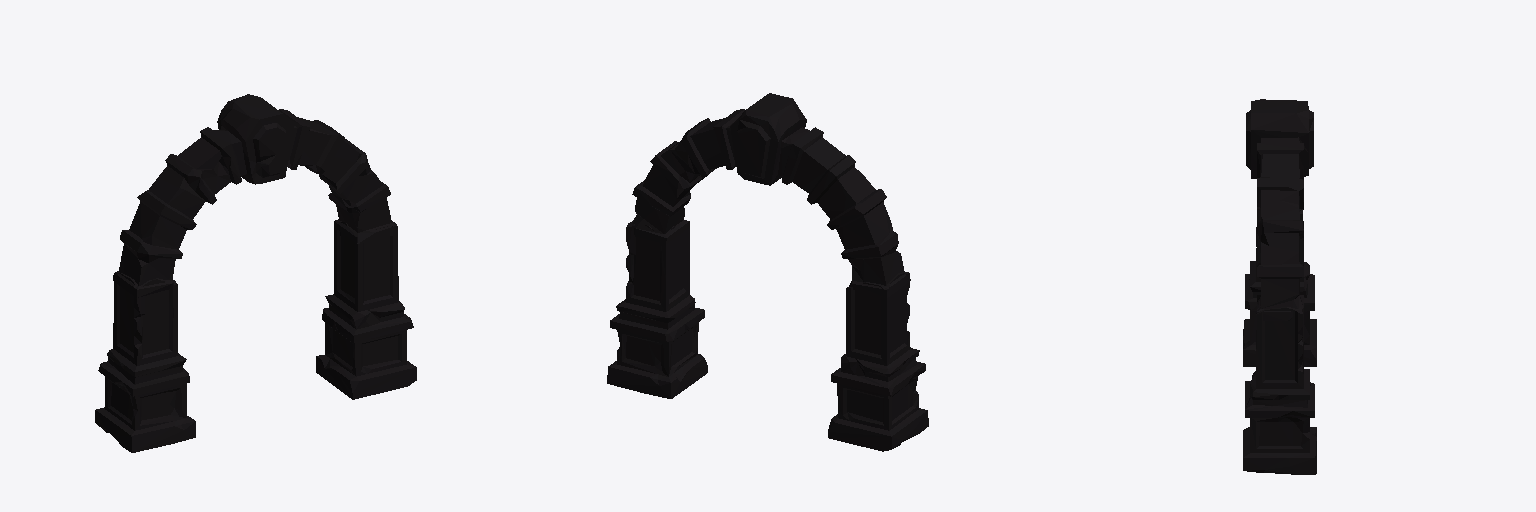
File: portal.obj
3 views of the same model, side by side, from view 1: azimuth 30°, elevation 25°; view 2: azimuth 150°, elevation 25°; view 3: azimuth 270°, elevation 25° (orthographic).
Visible parts, largest first — view 1: Meshespolygonnatureproppillararch011, Meshespolygonnatureproppillarbroken021, Meshespolygonnatureproppillarbroken022; view 2: Meshespolygonnatureproppillararch011, Meshespolygonnatureproppillarbroken022, Meshespolygonnatureproppillarbroken021; view 3: Meshespolygonnatureproppillararch011, Meshespolygonnatureproppillarbroken022, Meshespolygonnatureproppillarbroken021.
Boxes of the visible parts, x1=… form: Meshespolygonnatureproppillararch011: x1=113, y1=94, x2=396, y2=297; Meshespolygonnatureproppillarbroken021: x1=95, y1=271, x2=195, y2=452; Meshespolygonnatureproppillarbroken022: x1=316, y1=221, x2=416, y2=399; Meshespolygonnatureproppillararch011: x1=632, y1=93, x2=910, y2=297; Meshespolygonnatureproppillarbroken022: x1=607, y1=217, x2=707, y2=398; Meshespolygonnatureproppillarbroken021: x1=828, y1=272, x2=928, y2=451; Meshespolygonnatureproppillararch011: x1=1246, y1=99, x2=1313, y2=320; Meshespolygonnatureproppillarbroken022: x1=1243, y1=301, x2=1316, y2=474; Meshespolygonnatureproppillarbroken021: x1=1243, y1=207, x2=1316, y2=366.
Size of the model in its own units: 13.81 by 13.85 by 3.12.